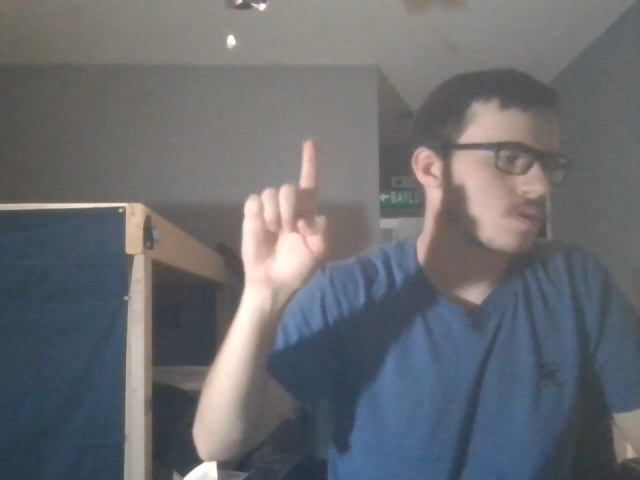D: (213, 128, 342, 295)
